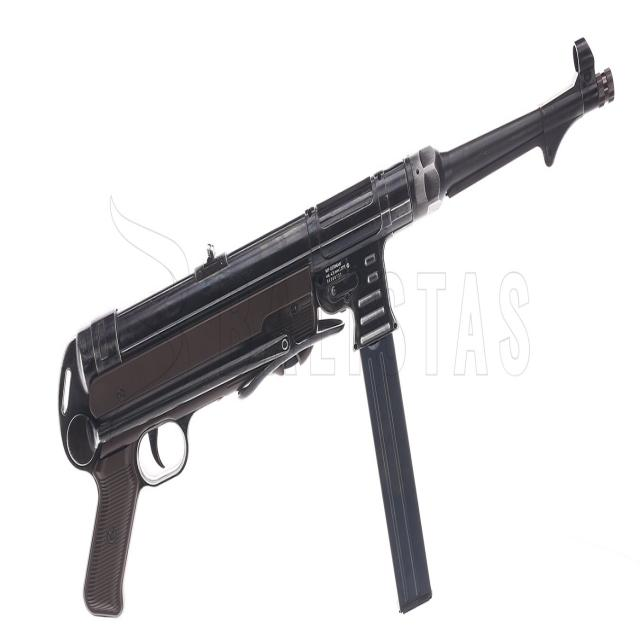SMG: (56, 38, 617, 620)
